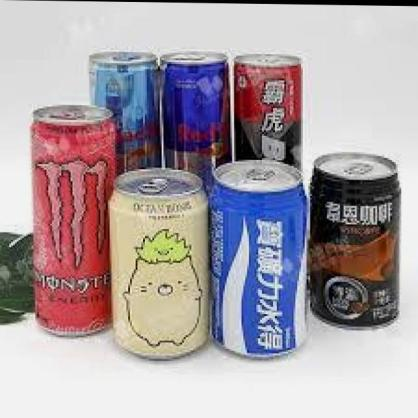can: (210, 155, 310, 356), (110, 167, 211, 363), (30, 103, 112, 338), (311, 149, 403, 330)
